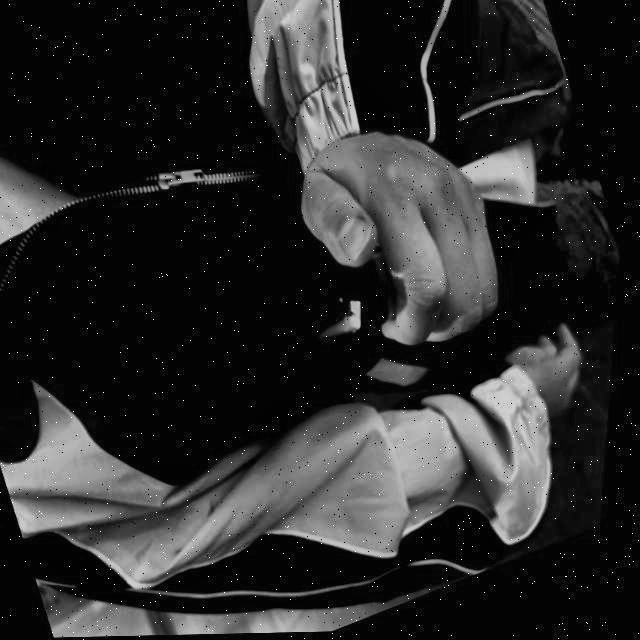Fire: (310, 317, 363, 350)
